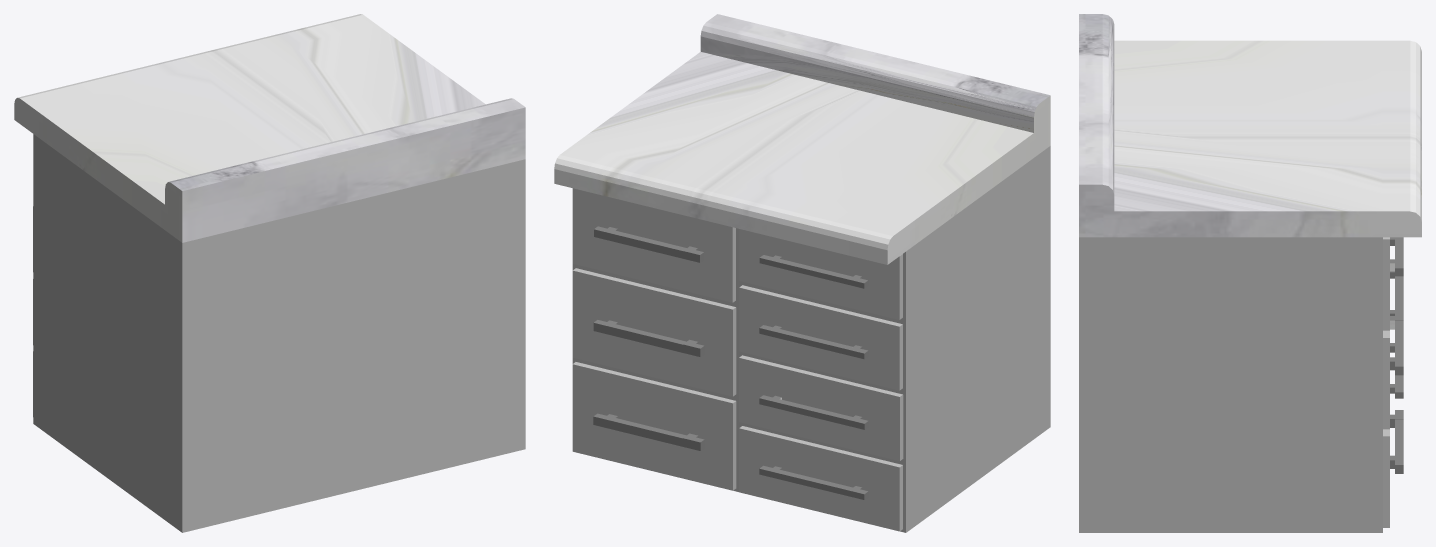
Rendered from countertop1.fbx.
3 views of the same model, side by side, from view 1: azimuth 30°, elevation 25°; view 2: azimuth 150°, elevation 25°; view 3: azimuth 270°, elevation 25° (orthographic). The views are drawn at different scales.
Parts seen in each view (by area): view 1: Cube; view 2: Cube; view 3: Cube.
Part boxes in pixels (x1,y1,x2,y2): Cube: [14, 14, 525, 532]; Cube: [554, 14, 1050, 532]; Cube: [1079, 14, 1421, 532].
Size of the model in its own units: 159 by 152 by 135.
